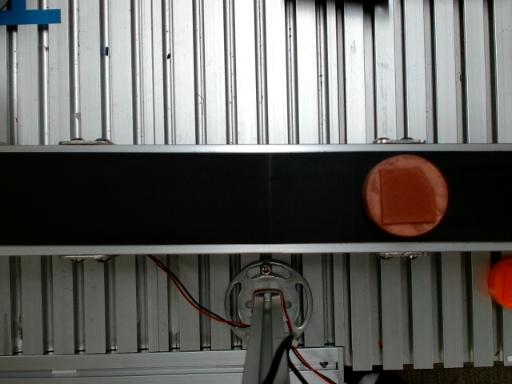Brown_Waper: (362, 154, 448, 235)
Not_Square: (379, 167, 436, 223)
